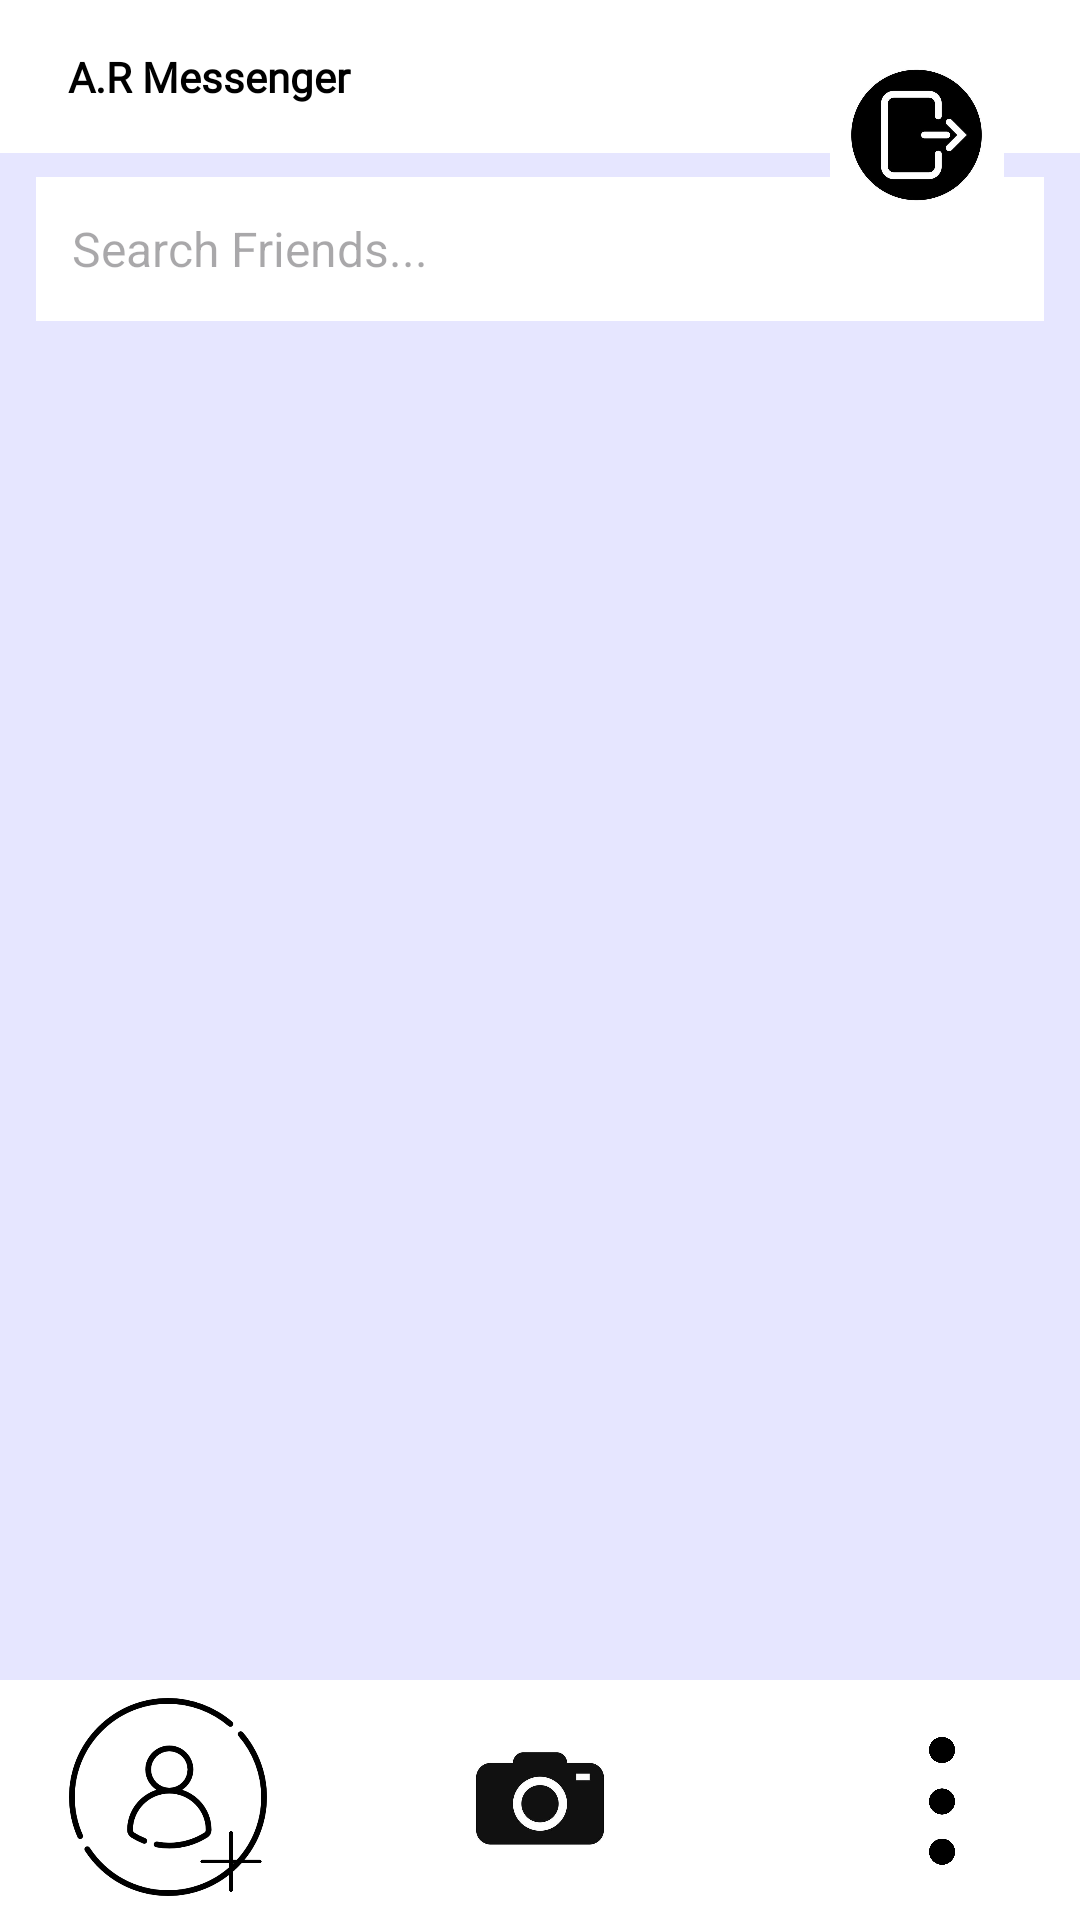

Icons on this 1080×1920 Android screen, each with the point to tap as point (x, y):
friendrequest: point (168, 1797)
optiondefault: point (942, 1801)
